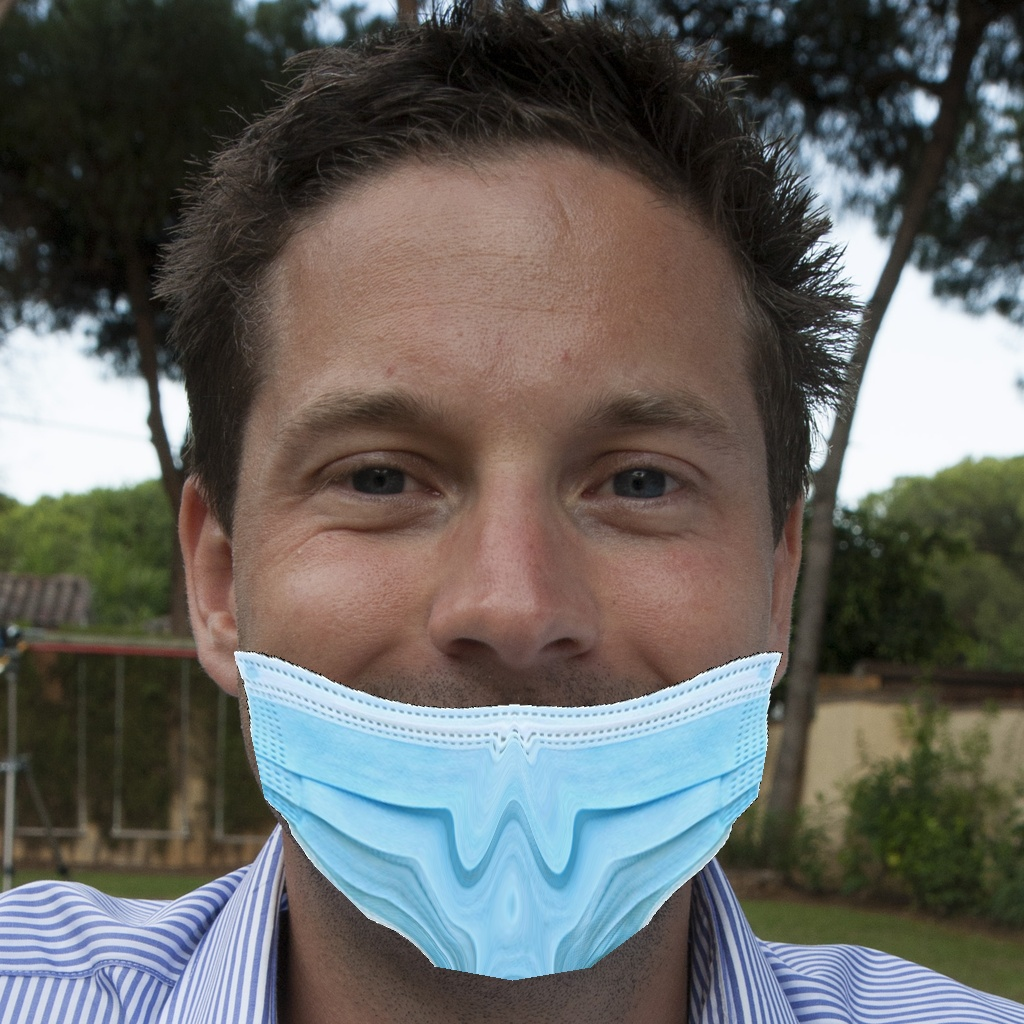mask_weared_incorrect: (225, 376, 804, 983)
